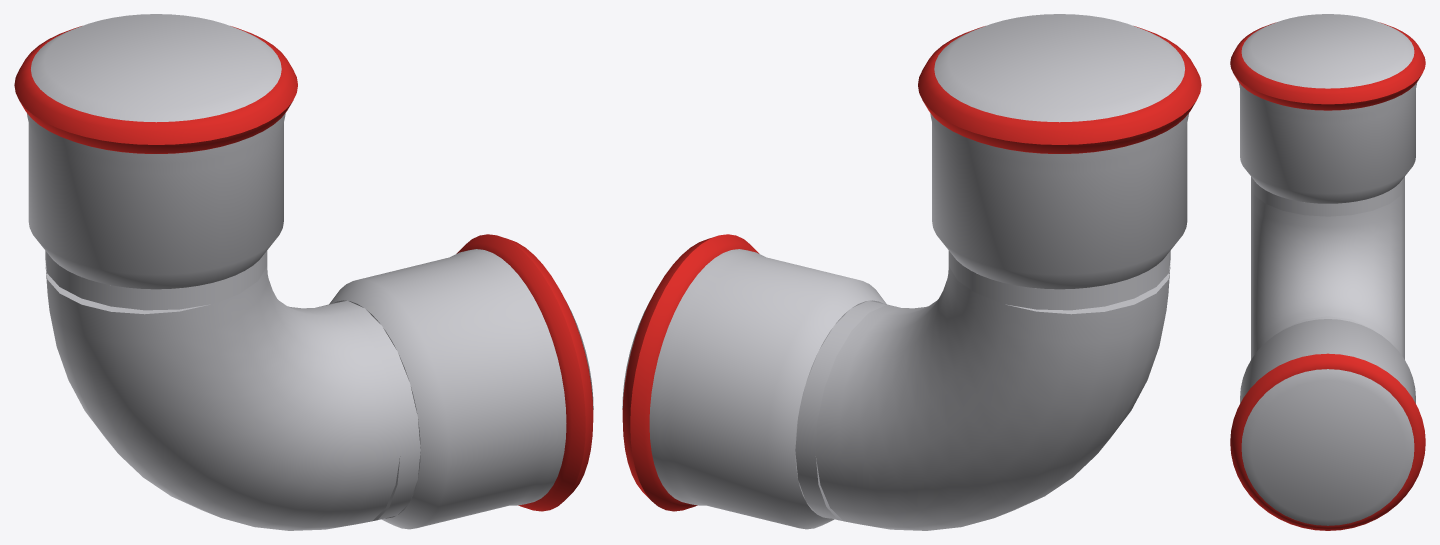
The model's file is fitting_e90_35_r.glb.
The picture shows the model from 3 angles, left to right: view 1: azimuth 30°, elevation 25°; view 2: azimuth 150°, elevation 25°; view 3: azimuth 270°, elevation 25°; orthographic projection. The views are drawn at different scales.
Visible parts, largest first — view 1: изгиб, раструб.001, раструб, кольцо пресс.001, кольцо пресс, корпус.001, корпус; view 2: изгиб, раструб.001, раструб, кольцо пресс.001, кольцо пресс, корпус.001, корпус; view 3: раструб, раструб.001, изгиб, кольцо пресс, кольцо пресс.001, корпус.001.
Boxes of the visible parts, left/top/right/bottom form: изгиб: left=45, top=263, right=400, bottom=530; раструб.001: left=27, top=14, right=285, bottom=289; раструб: left=329, top=249, right=593, bottom=529; кольцо пресс.001: left=14, top=26, right=297, bottom=153; кольцо пресс: left=456, top=234, right=593, bottom=511; корпус.001: left=45, top=250, right=267, bottom=310; корпус: left=319, top=300, right=420, bottom=521; изгиб: left=815, top=263, right=1170, bottom=530; раструб.001: left=930, top=14, right=1188, bottom=289; раструб: left=622, top=249, right=886, bottom=529; кольцо пресс.001: left=918, top=26, right=1201, bottom=153; кольцо пресс: left=622, top=234, right=759, bottom=511; корпус.001: left=948, top=250, right=1170, bottom=310; корпус: left=795, top=300, right=896, bottom=521; раструб: left=1240, top=319, right=1415, bottom=525; раструб.001: left=1238, top=14, right=1417, bottom=203; изгиб: left=1251, top=186, right=1404, bottom=359; кольцо пресс: left=1230, top=353, right=1425, bottom=530; кольцо пресс.001: left=1230, top=22, right=1425, bottom=110; корпус.001: left=1251, top=177, right=1404, bottom=216.
Size of the model in its own units: 0.0992 by 0.0992 by 0.0483.
